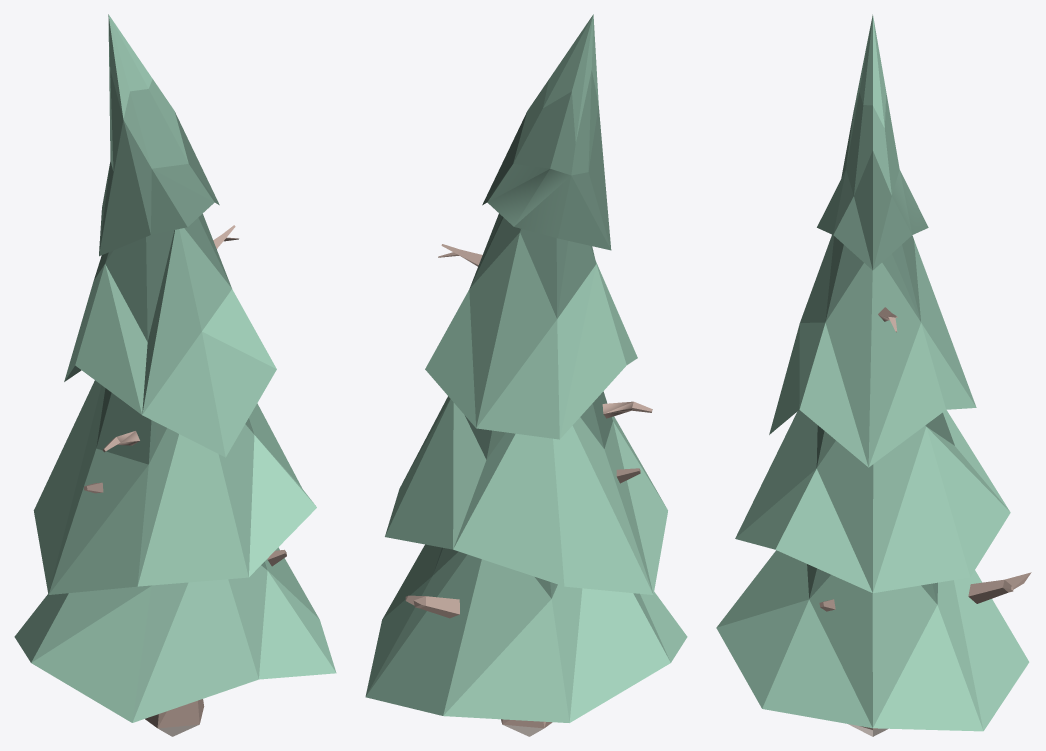
Rendered from TreeSpruce.fbx.
3 views of the same model, side by side, from view 1: azimuth 30°, elevation 25°; view 2: azimuth 150°, elevation 25°; view 3: azimuth 270°, elevation 25° (orthographic). The views are drawn at different scales.
Visible parts, largest first — view 1: TreeSpruce; view 2: TreeSpruce; view 3: TreeSpruce.
Part boxes in pixels (left/top/right/bottom): TreeSpruce: left=14, top=14, right=336, bottom=736; TreeSpruce: left=365, top=14, right=687, bottom=736; TreeSpruce: left=716, top=14, right=1031, bottom=736.
Bounding box in the file's own units: 4.18 × 10.22 × 4.21.
